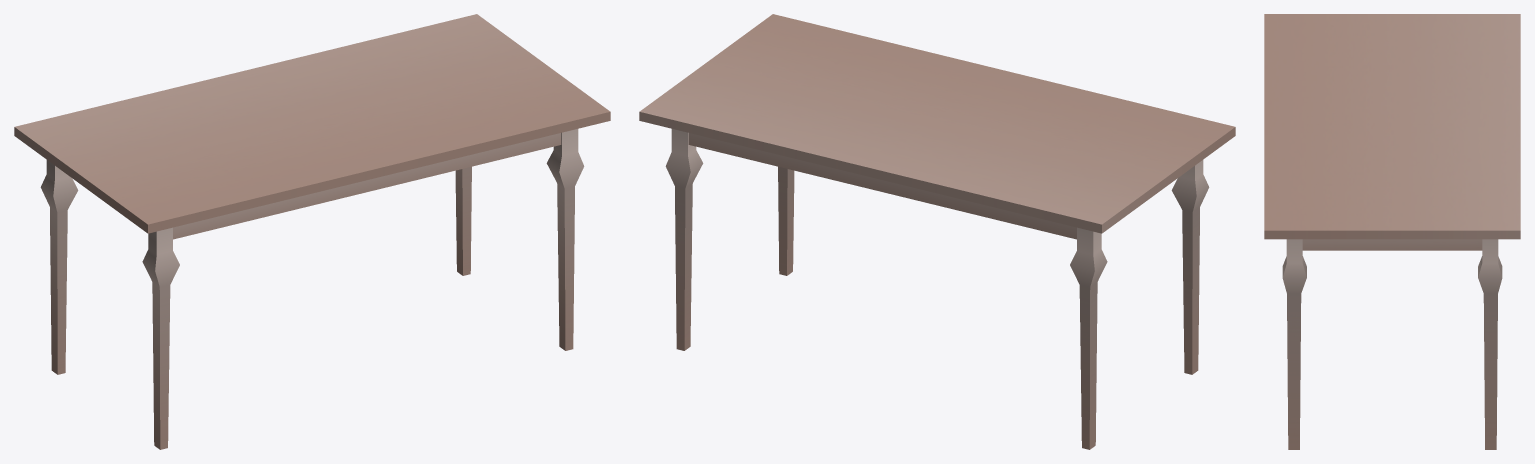
The model's file is Mesa.obj.
The picture shows the model from 3 angles, left to right: view 1: azimuth 30°, elevation 25°; view 2: azimuth 150°, elevation 25°; view 3: azimuth 270°, elevation 25°; orthographic projection. The views are drawn at different scales.
Visible parts, largest first — view 1: Mesa.obj; view 2: Mesa.obj; view 3: Mesa.obj.
Part boxes in pixels (<box>): Mesa.obj: <box>14,14,610,449</box>; Mesa.obj: <box>639,14,1235,449</box>; Mesa.obj: <box>1264,14,1520,449</box>.
Bounding box in the file's own units: 1.6 × 0.795 × 0.8.
